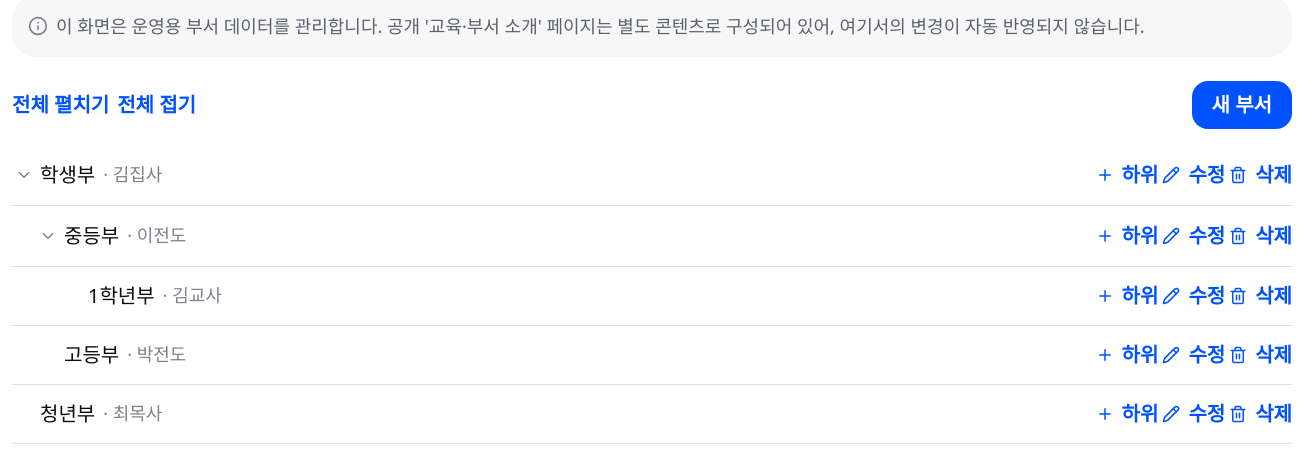
DepartmentManager (접이식 트리) › chevron으로 개별 접기
This screenshot has width=1304, height=461.
Expected: the text "중등부" is shown, [64,219,119,253]
Click the button named "중등부 접기".
click(48, 236)  # box [36,218,60,254]
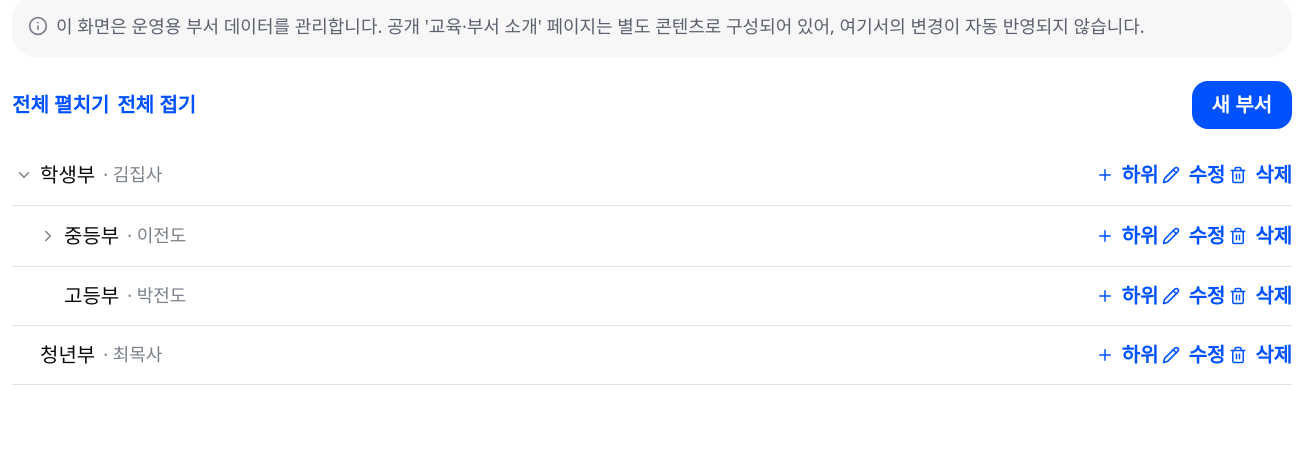
Expected: the text "1학년부" is gone
